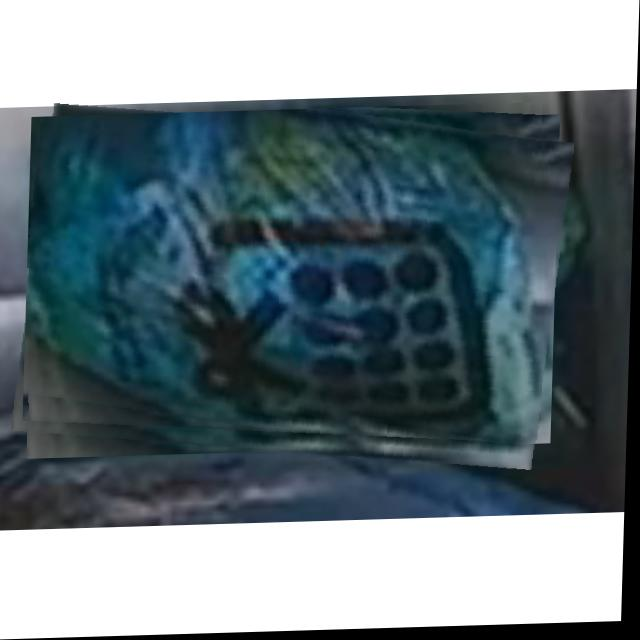general_trashbag: (29, 111, 544, 444)
